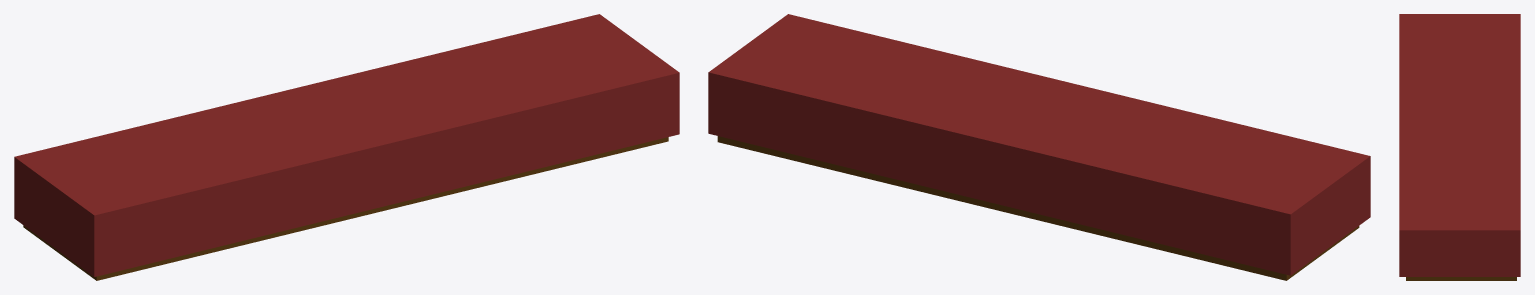
The model's file is Table_bakery.fbx.
3 views of the same model, side by side, from view 1: azimuth 30°, elevation 25°; view 2: azimuth 150°, elevation 25°; view 3: azimuth 270°, elevation 25° (orthographic). The views are drawn at different scales.
Parts seen in each view (by area): view 1: Table_bakery; view 2: Table_bakery; view 3: Table_bakery.
Boxes of the visible parts, x1,y1,x2,y2 form: Table_bakery: [14, 14, 679, 280]; Table_bakery: [708, 14, 1370, 280]; Table_bakery: [1399, 14, 1520, 280].
Bounding box in the file's own units: 784 × 90.08 × 186.
